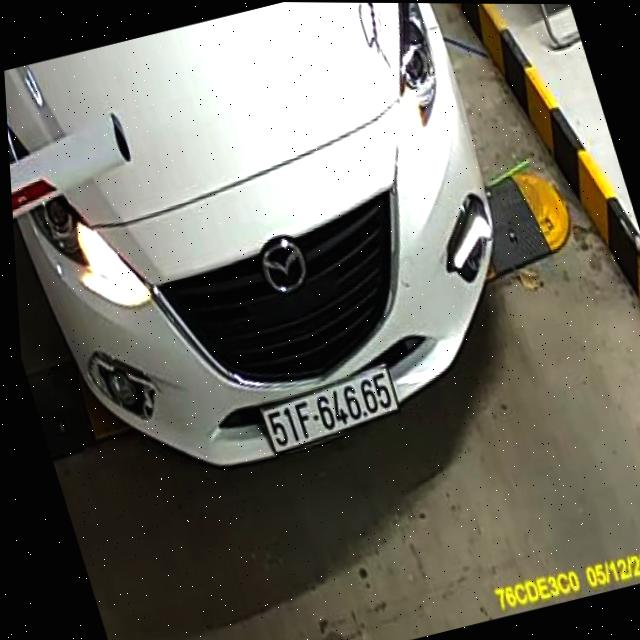car: (0, 0, 569, 520)
plate: (250, 364, 417, 462)
